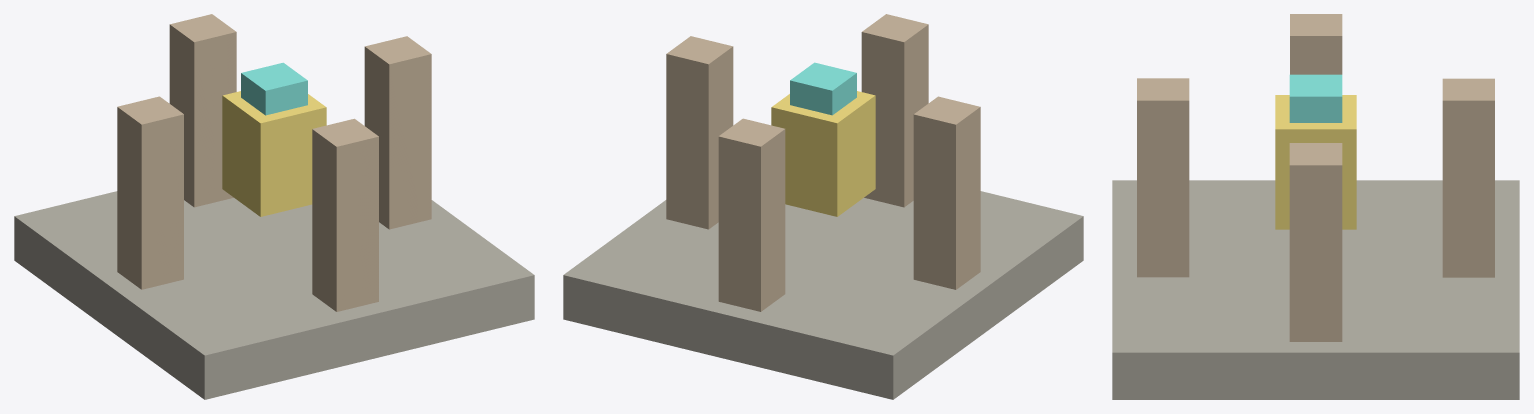
The model's file is voxel_shrine.glb.
The picture shows the model from 3 angles, left to right: view 1: azimuth 30°, elevation 25°; view 2: azimuth 150°, elevation 25°; view 3: azimuth 270°, elevation 25°; orthographic projection. The views are drawn at different scales.
Visible parts, largest first — view 1: base, post_2, post_3, post_0, gem, post_1, gem2; view 2: base, post_2, post_1, post_0, gem, post_3, gem2; view 3: base, post_0, post_1, post_3, gem, post_2, gem2.
Part boxes in pixels (x1=…): base: x1=14, y1=191, x2=534, y2=399; post_2: x1=117, y1=96, x2=183, y2=289; post_3: x1=312, y1=118, x2=378, y2=311; post_0: x1=364, y1=36, x2=431, y2=229; gem: x1=222, y1=91, x2=326, y2=216; post_1: x1=169, y1=14, x2=236, y2=207; gem2: x1=241, y1=62, x2=307, y2=115; base: x1=563, y1=191, x2=1083, y2=399; post_2: x1=913, y1=96, x2=980, y2=289; post_1: x1=718, y1=118, x2=785, y2=311; post_0: x1=666, y1=36, x2=733, y2=229; gem: x1=771, y1=91, x2=875, y2=216; post_3: x1=861, y1=14, x2=928, y2=207; gem2: x1=790, y1=62, x2=856, y2=115; base: x1=1112, y1=180, x2=1519, y2=399; post_0: x1=1289, y1=143, x2=1342, y2=341; post_1: x1=1442, y1=78, x2=1494, y2=277; post_3: x1=1137, y1=78, x2=1189, y2=277; gem: x1=1275, y1=95, x2=1356, y2=229; post_2: x1=1290, y1=14, x2=1342, y2=74; gem2: x1=1289, y1=74, x2=1342, y2=122.
Size of the model in its own units: 2.8 by 1.73 by 2.8.
